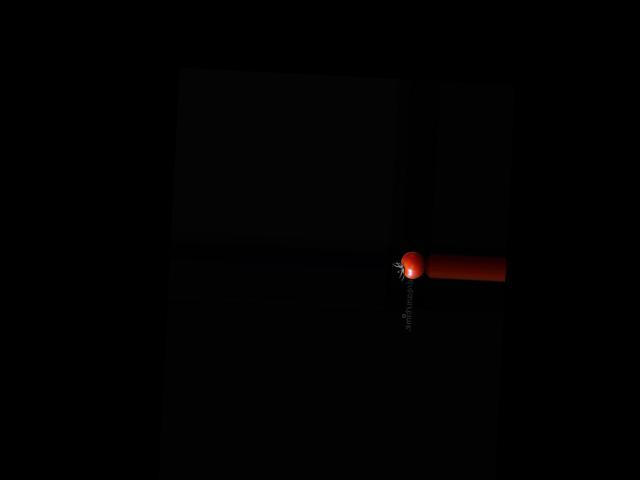tomato: (400, 251, 425, 279)
